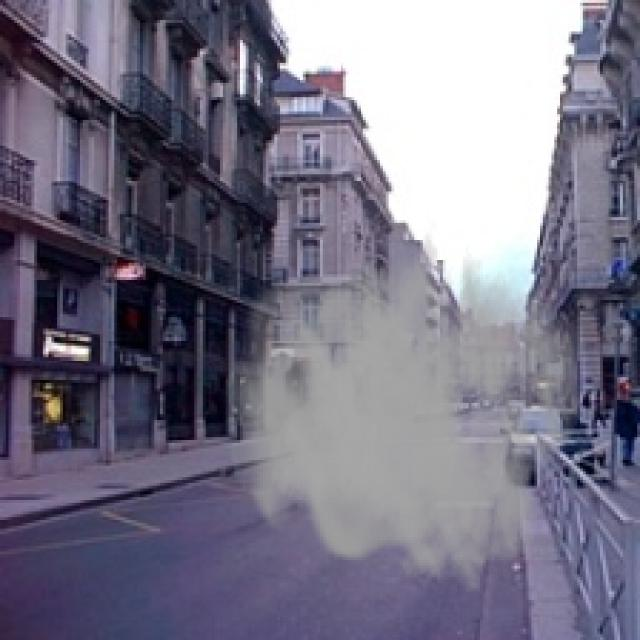smoke: (226, 215, 580, 594)
